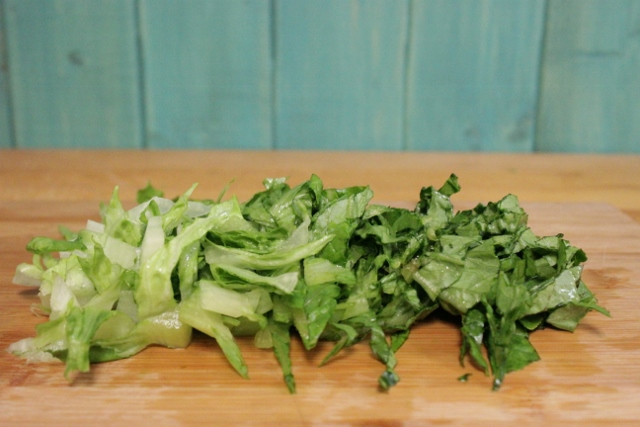chopped lettuce: (126, 210, 543, 313)
